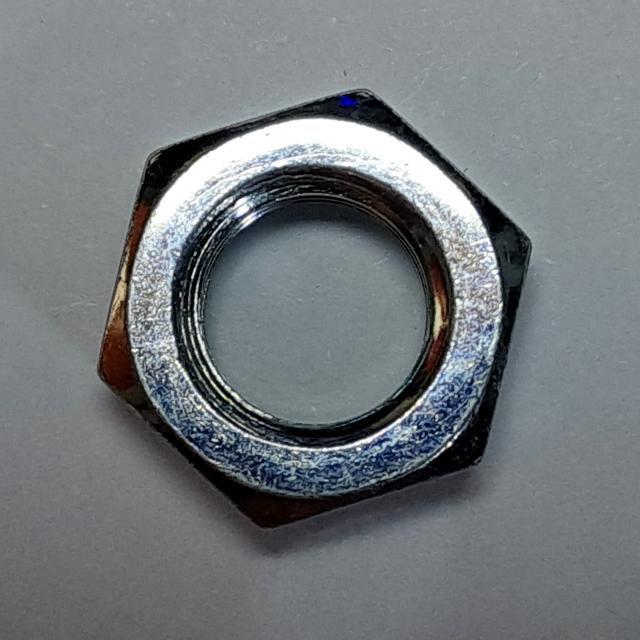Excellent: (79, 72, 563, 547)
